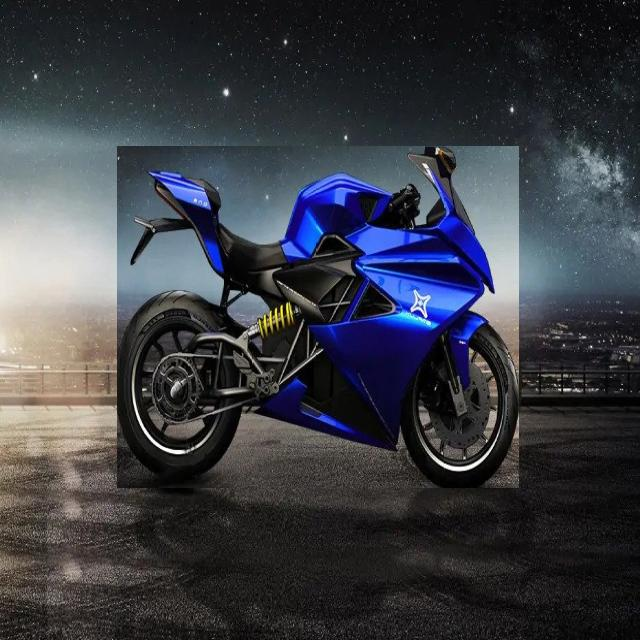motorcycle: (118, 147, 519, 488)
